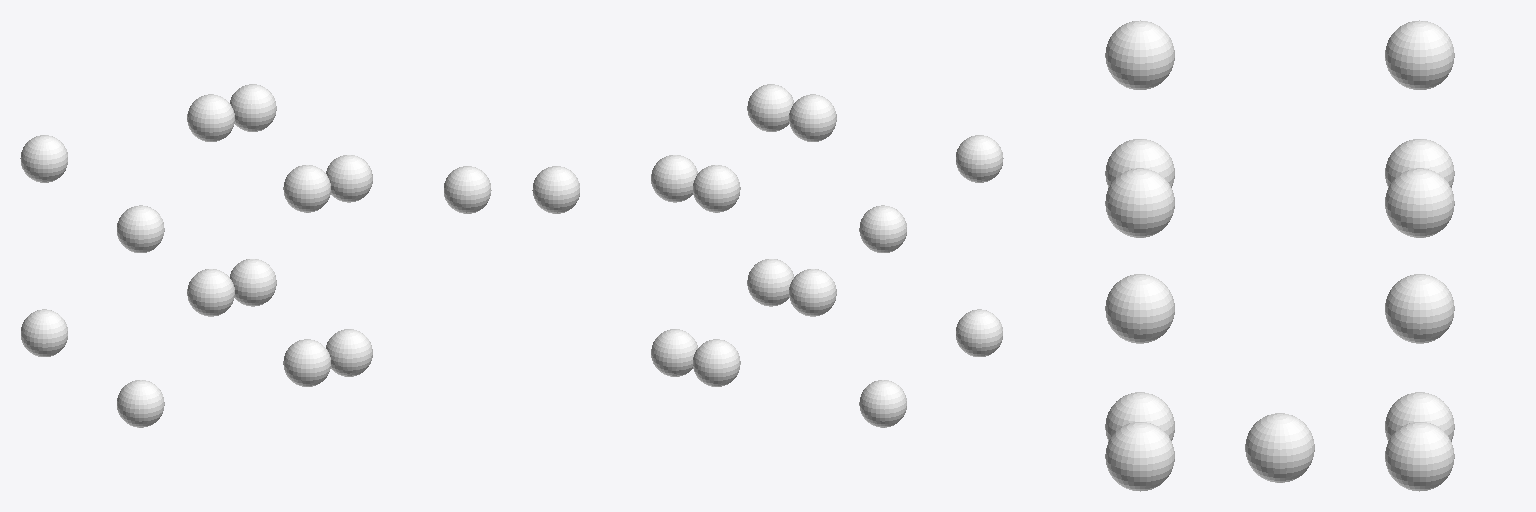
robot.urdf — urdf_robot:
<?xml version="0.0" ?>
<robot name="urdf_robot">
	<link name="baseLink1">
		<inertial>
			<origin rpy="0.00000 -0.00000 0.00000" xyz="0.50000 0.00000 0.00000"/>
			<mass value="2.00000"/>
			<inertia ixx="0.33467" ixy="0" ixz="0" iyy="0.83533" iyz="0" izz="0.83533"/>
		</inertial>
		
		<visual>
			<origin rpy="0.00000 -0.00000 0.00000" xyz="0.40000 0.40000 0.40000"/>
			<geometry>
				<sphere radius="0.10000"/>
			</geometry>
			<material name="mat_-1_1">
				<color rgba="1.00000 1.00000 1.00000 1.00000" />
			</material>
		</visual>
		<visual>
			<origin rpy="0.00000 -0.00000 0.00000" xyz="-0.40000 0.40000 0.40000"/>
			<geometry>
				<sphere radius="0.10000"/>
			</geometry>
			<material name="mat_-1_2">
				<color rgba="1.00000 1.00000 1.00000 1.00000" />
			</material>
		</visual>
		<visual>
			<origin rpy="0.00000 -0.00000 0.00000" xyz="0.40000 -0.40000 0.40000"/>
			<geometry>
				<sphere radius="0.10000"/>
			</geometry>
			<material name="mat_-1_3">
				<color rgba="1.00000 1.00000 1.00000 1.00000" />
			</material>
		</visual>
		<visual>
			<origin rpy="0.00000 -0.00000 0.00000" xyz="-0.40000 -0.40000 0.40000"/>
			<geometry>
				<sphere radius="0.10000"/>
			</geometry>
			<material name="mat_-1_4">
				<color rgba="1.00000 1.00000 1.00000 1.00000" />
			</material>
		</visual>
		<visual>
			<origin rpy="0.00000 -0.00000 0.00000" xyz="0.40000 0.40000 -0.40000"/>
			<geometry>
				<sphere radius="0.10000"/>
			</geometry>
			<material name="mat_-1_5">
				<color rgba="1.00000 1.00000 1.00000 1.00000" />
			</material>
		</visual>
		<visual>
			<origin rpy="0.00000 -0.00000 0.00000" xyz="-0.40000 0.40000 -0.40000"/>
			<geometry>
				<sphere radius="0.10000"/>
			</geometry>
			<material name="mat_-1_6">
				<color rgba="1.00000 1.00000 1.00000 1.00000" />
			</material>
		</visual>
		<visual>
			<origin rpy="0.00000 -0.00000 0.00000" xyz="0.40000 -0.40000 -0.40000"/>
			<geometry>
				<sphere radius="0.10000"/>
			</geometry>
			<material name="mat_-1_7">
				<color rgba="1.00000 1.00000 1.00000 1.00000" />
			</material>
		</visual>
		<visual>
			<origin rpy="0.00000 -0.00000 0.00000" xyz="-0.40000 -0.40000 -0.40000"/>
			<geometry>
				<sphere radius="0.10000"/>
			</geometry>
			<material name="mat_-1_8">
				<color rgba="1.00000 1.00000 1.00000 1.00000" />
			</material>
		</visual>
		
		<visual>
			<origin rpy="0.00000 -0.00000 0.00000" xyz="0.60000 0.40000 0.40000"/>
			<geometry>
				<sphere radius="0.10000"/>
			</geometry>
			<material name="mat_-1_11">
				<color rgba="1.00000 1.00000 1.00000 1.00000" />
			</material>
		</visual>
		
		<visual>
			<origin rpy="0.00000 -0.00000 0.00000" xyz="0.60000 -0.40000 0.40000"/>
			<geometry>
				<sphere radius="0.10000"/>
			</geometry>
			<material name="mat_-1_13">
				<color rgba="1.00000 1.00000 1.00000 1.00000" />
			</material>
		</visual>
		
		<visual>
			<origin rpy="0.00000 -0.00000 0.00000" xyz="0.60000 0.40000 -0.40000"/>
			<geometry>
				<sphere radius="0.10000"/>
			</geometry>
			<material name="mat_-1_15">
				<color rgba="1.00000 1.00000 1.00000 1.00000" />
			</material>
		</visual>
		<visual>
			<origin rpy="0.00000 -0.00000 0.00000" xyz="1.40000 0.0000 0.0000"/>
			<geometry>
				<sphere radius="0.10000"/>
			</geometry>
			<material name="mat_-1_16">
				<color rgba="1.00000 1.00000 1.00000 1.00000" />
			</material>
		</visual>
		<visual>
			<origin rpy="0.00000 -0.00000 0.00000" xyz="0.60000 -0.40000 -0.40000"/>
			<geometry>
				<sphere radius="0.10000"/>
			</geometry>
			<material name="mat_-1_17">
				<color rgba="1.00000 1.00000 1.00000 1.00000" />
			</material>
		</visual>
		<collision>
			<origin rpy="0.00000 -0.00000 0.00000" xyz="0.40000 0.40000 0.40000"/>
			<geometry>
				<sphere radius="0.10000"/>
			</geometry>
		</collision>
		<collision>
			<origin rpy="0.00000 -0.00000 0.00000" xyz="-0.40000 0.40000 0.40000"/>
			<geometry>
				<sphere radius="0.10000"/>
			</geometry>
		</collision>
		<collision>
			<origin rpy="0.00000 -0.00000 0.00000" xyz="0.40000 -0.40000 0.40000"/>
			<geometry>
				<sphere radius="0.10000"/>
			</geometry>
		</collision>
		<collision>
			<origin rpy="0.00000 -0.00000 0.00000" xyz="-0.40000 -0.40000 0.40000"/>
			<geometry>
				<sphere radius="0.10000"/>
			</geometry>
		</collision>
		<collision>
			<origin rpy="0.00000 -0.00000 0.00000" xyz="0.40000 0.40000 -0.40000"/>
			<geometry>
				<sphere radius="0.10000"/>
			</geometry>
		</collision>
		<collision>
			<origin rpy="0.00000 -0.00000 0.00000" xyz="-0.40000 0.40000 -0.40000"/>
			<geometry>
				<sphere radius="0.10000"/>
			</geometry>
		</collision>
		<collision>
			<origin rpy="0.00000 -0.00000 0.00000" xyz="0.40000 -0.40000 -0.40000"/>
			<geometry>
				<sphere radius="0.10000"/>
			</geometry>
		</collision>
		<collision>
			<origin rpy="0.00000 -0.00000 0.00000" xyz="-0.40000 -0.40000 -0.40000"/>
			<geometry>
				<sphere radius="0.10000"/>
			</geometry>
		</collision>
		<collision>
			<origin rpy="0.00000 -0.00000 0.00000" xyz="1.40000 0.0000 0.0000"/>
			<geometry>
				<sphere radius="0.10000"/>
			</geometry>
		</collision>
		<collision>
			<origin rpy="0.00000 -0.00000 0.00000" xyz="0.60000 0.40000 0.40000"/>
			<geometry>
				<sphere radius="0.10000"/>
			</geometry>
		</collision>
		<collision>
			<origin rpy="0.00000 -0.00000 0.00000" xyz="0.60000 -0.40000 0.40000"/>
			<geometry>
				<sphere radius="0.10000"/>
			</geometry>
		</collision>
		<collision>
			<origin rpy="0.00000 -0.00000 0.00000" xyz="0.60000 0.40000 -0.40000"/>
			<geometry>
				<sphere radius="0.10000"/>
			</geometry>
		</collision>
		<collision>
			<origin rpy="0.00000 -0.00000 0.00000" xyz="0.60000 -0.40000 -0.40000"/>
			<geometry>
				<sphere radius="0.10000"/>
			</geometry>
		</collision>
	</link>
</robot>

--- What the picture shows (computed from the rendered views, not written in the file) ---
Views: 3 orthographic renders of the robot side by side, from view 1: azimuth 30°, elevation 25°; view 2: azimuth 150°, elevation 25°; view 3: azimuth 270°, elevation 25°.
Model urdf_robot with 1 links and 0 joints (none), rooted at baseLink1, posed every joint at zero.
Visible links, largest first — view 1: baseLink1; view 2: baseLink1; view 3: baseLink1.
Boxes of the visible links, x1,y1,x2,y2 form: baseLink1: (20,84,491,427); baseLink1: (532,84,1003,427); baseLink1: (1105,20,1454,491).
Size in the robot's own frame: 2 by 1 by 1 metres.
Geometry: primitives only (box / cylinder / sphere), no mesh files.